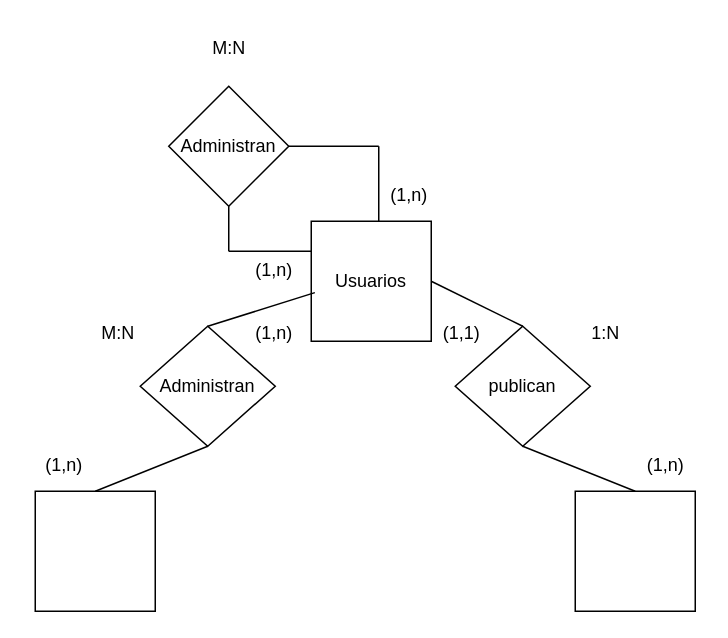
The diagram is 728 pixels wide and 638 high, and some of its shapes have lost their labels. The centre of each missing label's shape, as x and y in pixels:
Comentarios: the point at 634,550
SO: the point at 94,550
